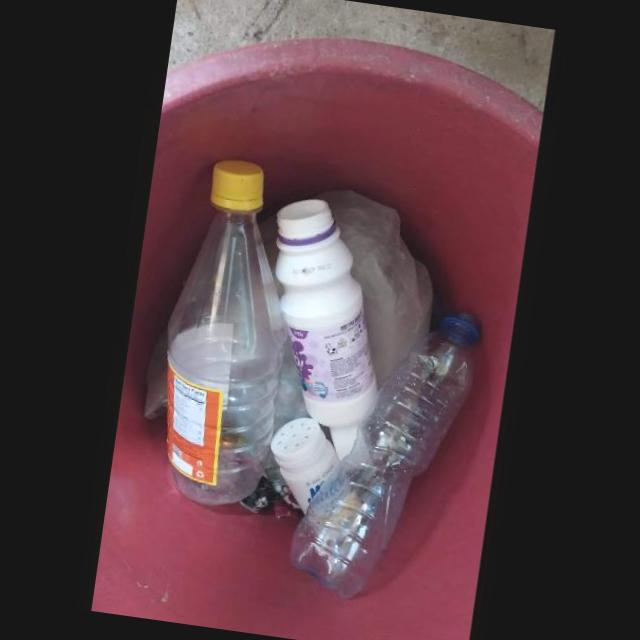chai_nhua: (274, 200, 381, 425)
chai_nhua_pet: (289, 305, 486, 601), (166, 158, 286, 505)
tui_ni_long: (322, 188, 437, 389)
